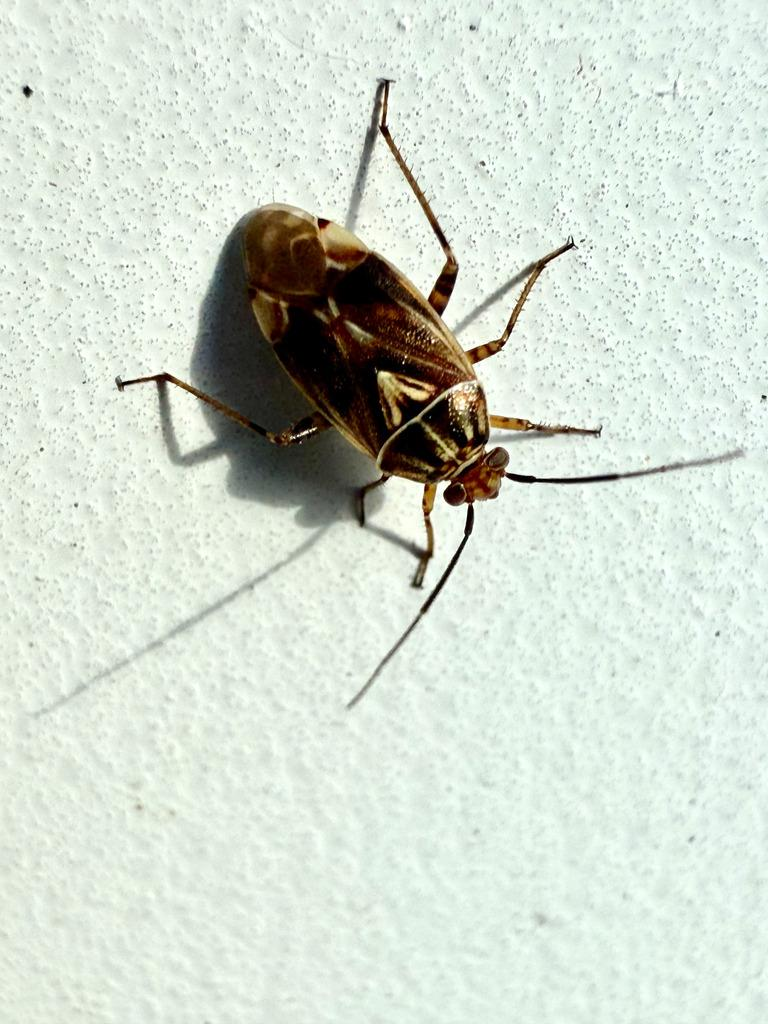plant_bugs: (57, 52, 768, 789)
